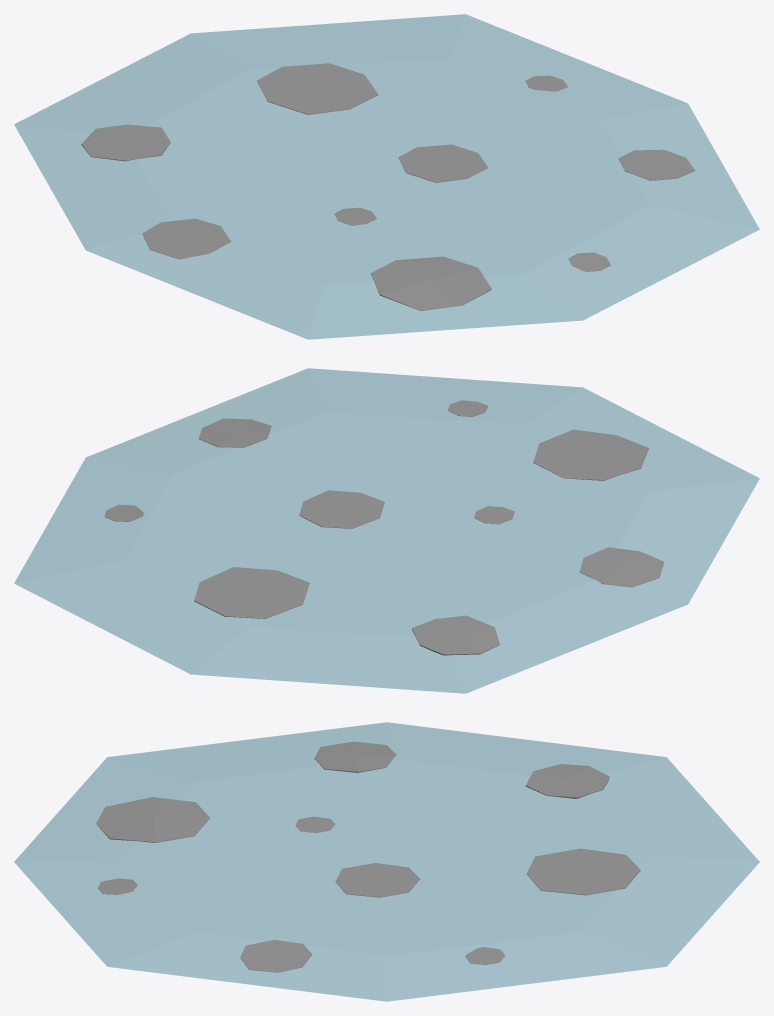
Rendered from Carpet_13.fbx.
The picture shows the model from 3 angles, top to bottom: view 1: azimuth 30°, elevation 25°; view 2: azimuth 150°, elevation 25°; view 3: azimuth 270°, elevation 25°; orthographic projection. The views are drawn at different scales.
Parts seen in each view (by area): view 1: Carpet_13; view 2: Carpet_13; view 3: Carpet_13.
Part boxes in pixels (left/top/right/bottom): Carpet_13: left=14, top=14, right=759, bottom=339; Carpet_13: left=14, top=368, right=759, bottom=693; Carpet_13: left=14, top=722, right=759, bottom=1001.
Size of the model in its own units: 325 by 367 by 3.49.
